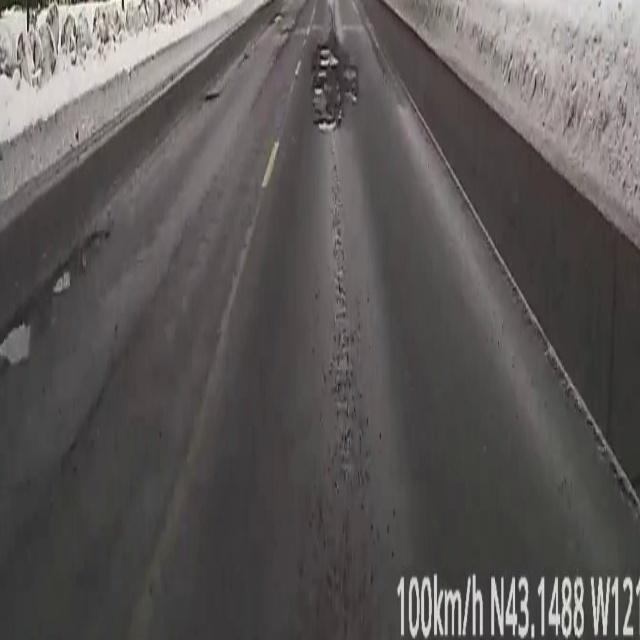pothole: (314, 42, 356, 132), (0, 323, 29, 368), (82, 226, 108, 268), (54, 266, 74, 296)
